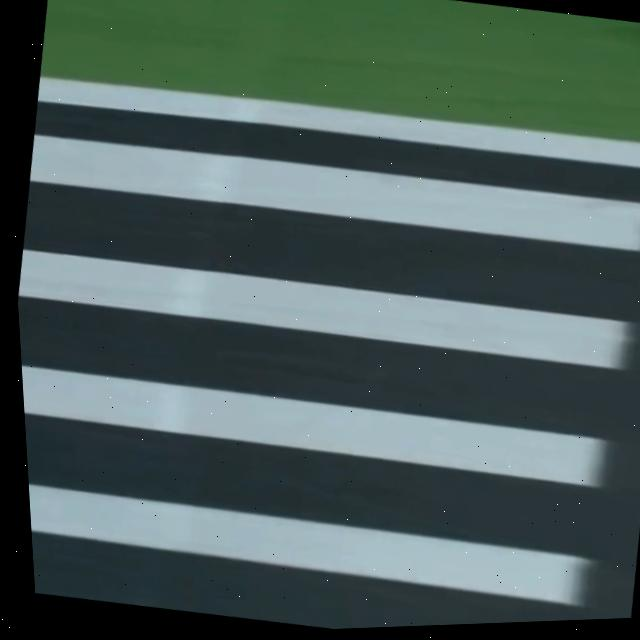right: (37, 77, 640, 168)
